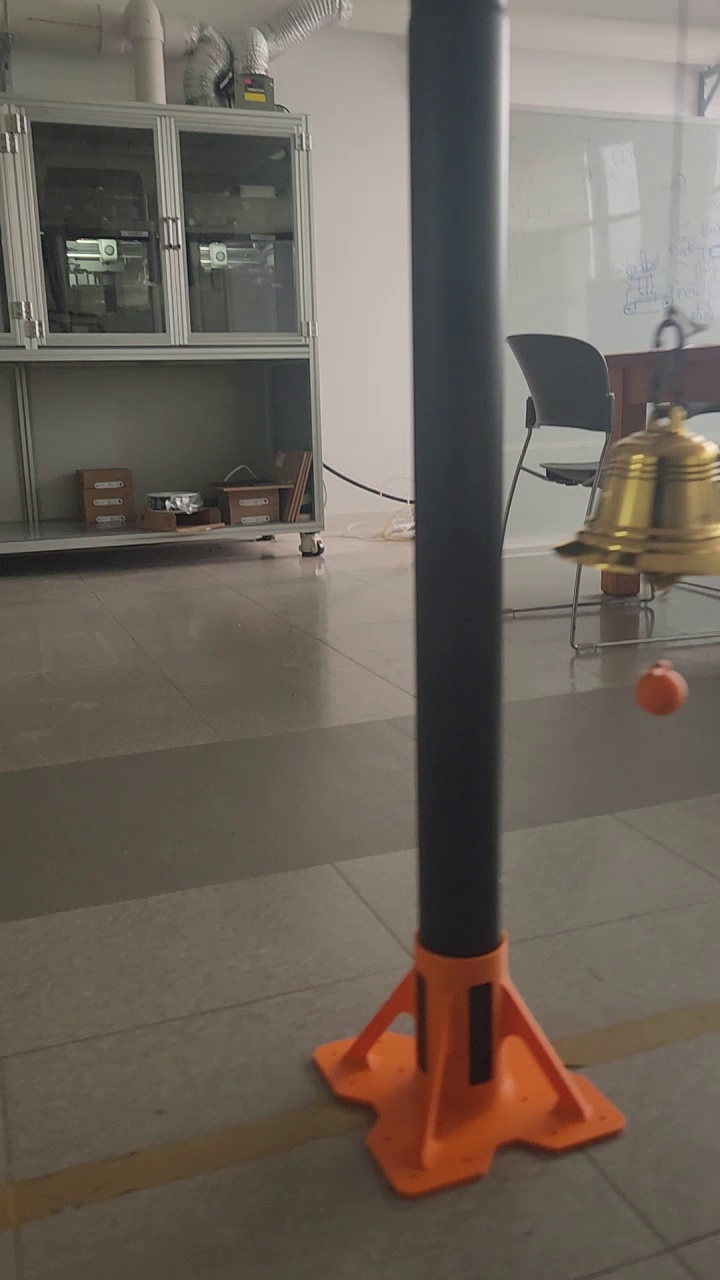pole: (405, 0, 509, 944)
